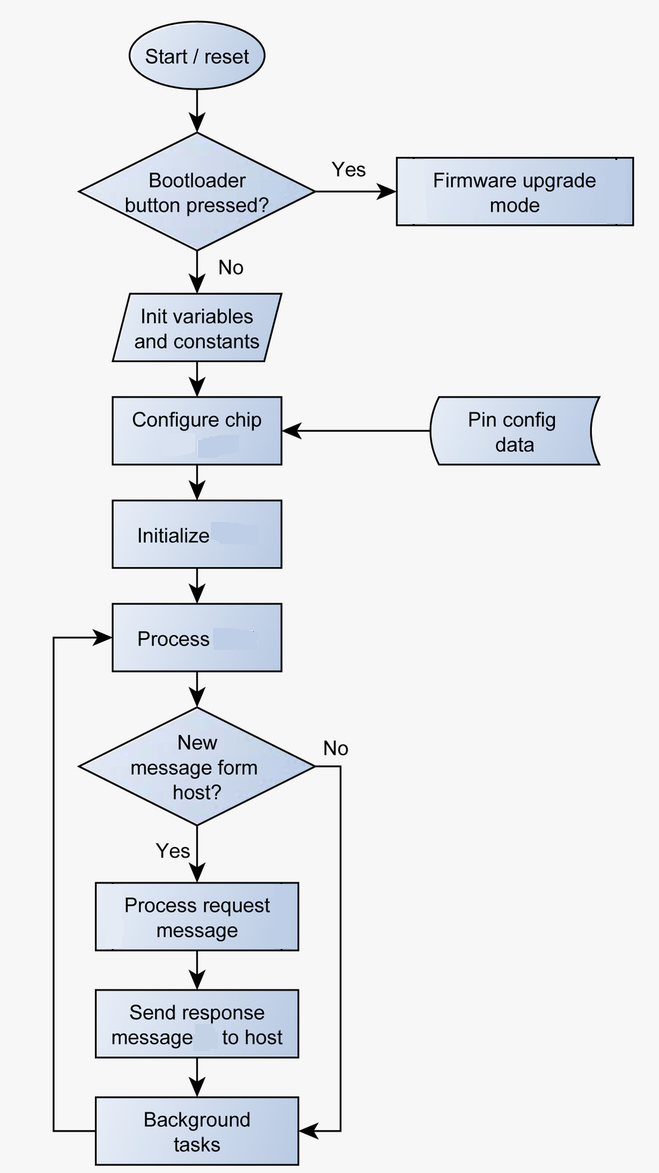arrow: (41, 624, 112, 1140), (301, 756, 351, 1144), (282, 414, 437, 444), (305, 176, 400, 203), (182, 819, 209, 880), (182, 244, 216, 290), (185, 81, 216, 130), (182, 944, 212, 990), (182, 1057, 214, 1098), (182, 667, 212, 708), (182, 351, 210, 394), (181, 460, 211, 499), (185, 565, 209, 601)
data: (103, 289, 287, 369)
decision: (73, 705, 321, 831), (75, 132, 317, 249)
process: (391, 149, 639, 235), (87, 981, 305, 1067), (87, 876, 307, 960), (87, 1090, 306, 1173), (107, 490, 291, 576), (105, 596, 289, 678), (425, 392, 607, 471), (107, 392, 287, 471)
terminator: (123, 15, 269, 96)
text: (128, 728, 264, 808), (105, 999, 285, 1053), (423, 165, 601, 219), (116, 167, 276, 223), (121, 892, 276, 944), (128, 306, 269, 358), (139, 1105, 262, 1157), (464, 403, 564, 456), (128, 405, 269, 435), (141, 39, 253, 71), (130, 624, 214, 656), (128, 523, 214, 553), (151, 835, 192, 865), (326, 155, 373, 181), (312, 735, 351, 762), (212, 255, 250, 280)
